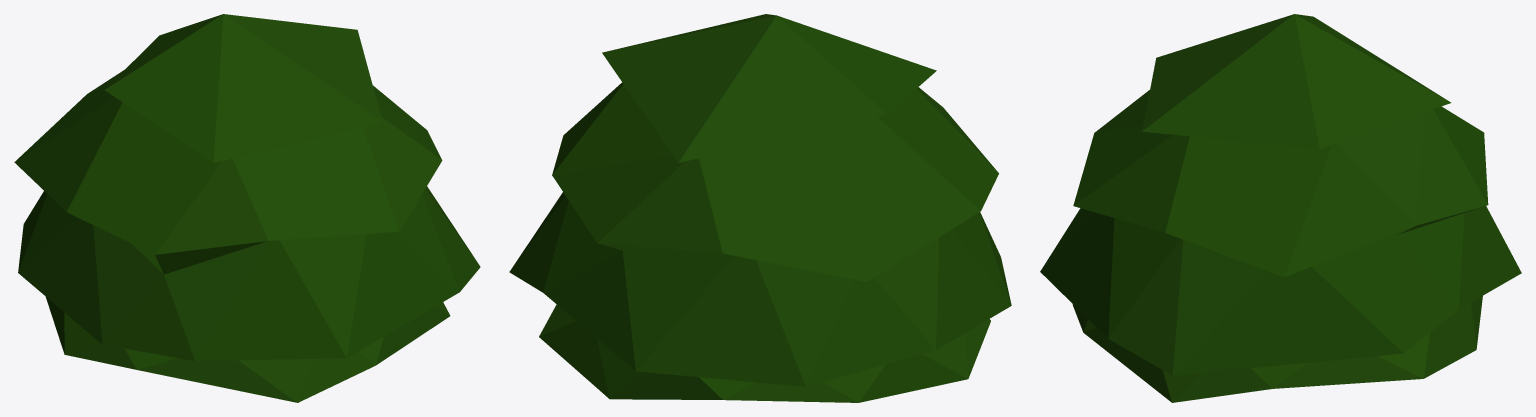
The model's file is bush.fbx.
3 renders of one model, left to right at view 1: azimuth 30°, elevation 25°; view 2: azimuth 150°, elevation 25°; view 3: azimuth 270°, elevation 25°, orthographic. The views are drawn at different scales.
Visible parts, largest first — view 1: Icosphere.003; view 2: Icosphere.003; view 3: Icosphere.003.
Boxes of the visible parts, <box> form: Icosphere.003: <box>14,14,480,402</box>; Icosphere.003: <box>509,14,1011,402</box>; Icosphere.003: <box>1040,14,1521,402</box>.
Size of the model in its own units: 3762 by 2898 by 4112.
Materials: 1 (1 with a texture image).
